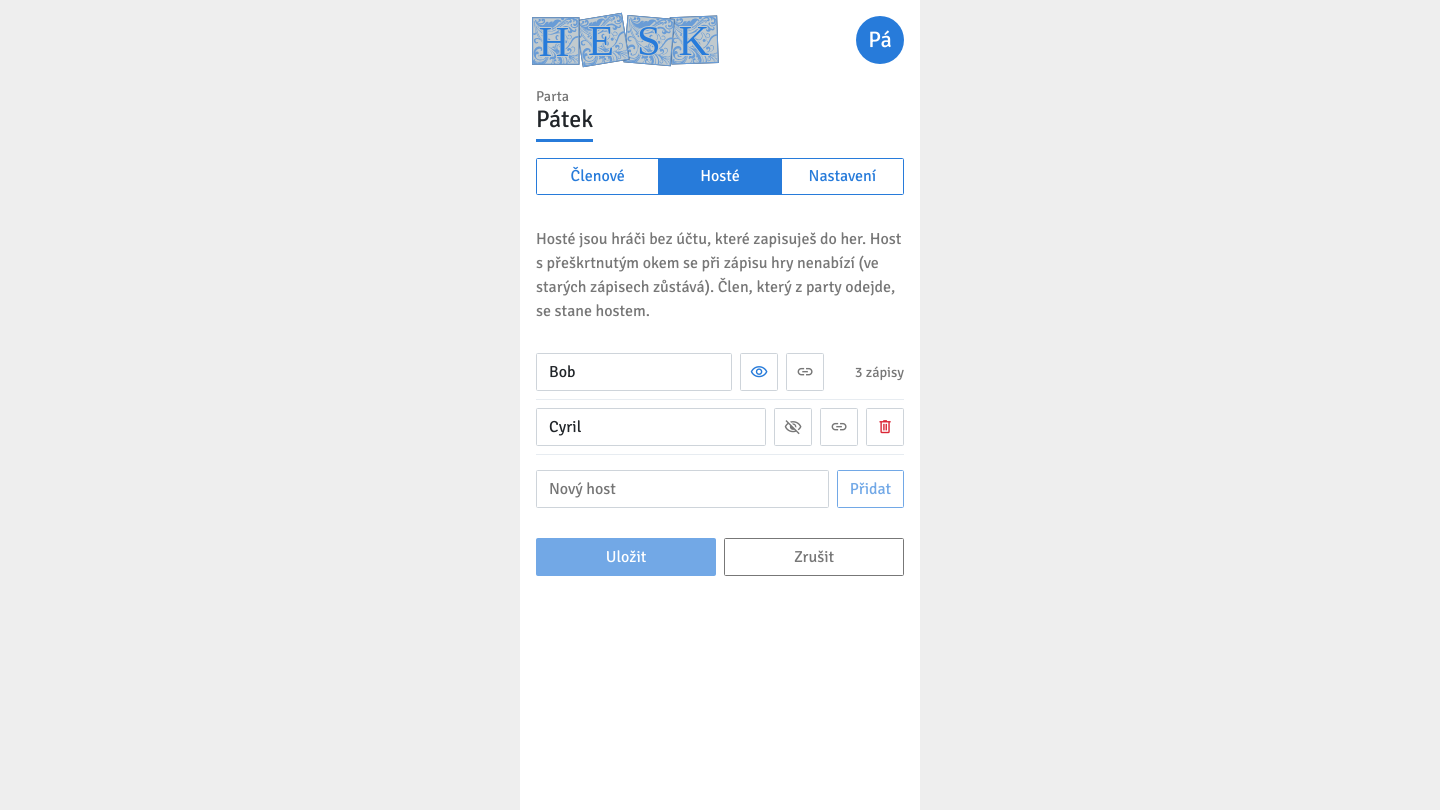
Test: party guests (/parties/:id/guests) › turning a guest into a member › creates an invitation for that guest and shows the link
Click the button named "Propojit hosta Bob s členem" at (805, 372), box x1=786 y1=354 x2=824 y2=392
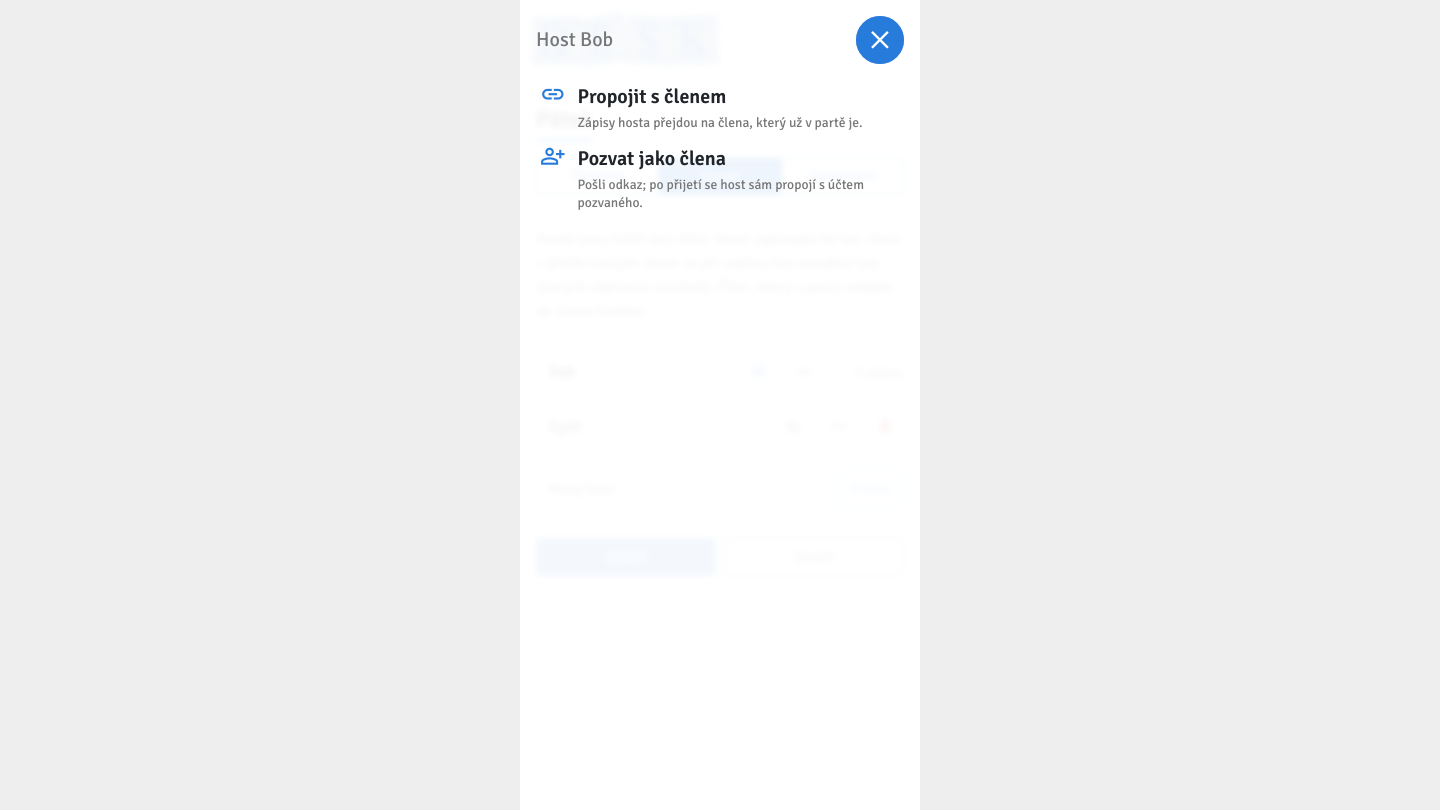
Click the button "Pozvat jako člena" at (720, 178), box x1=536 y1=138 x2=904 y2=218
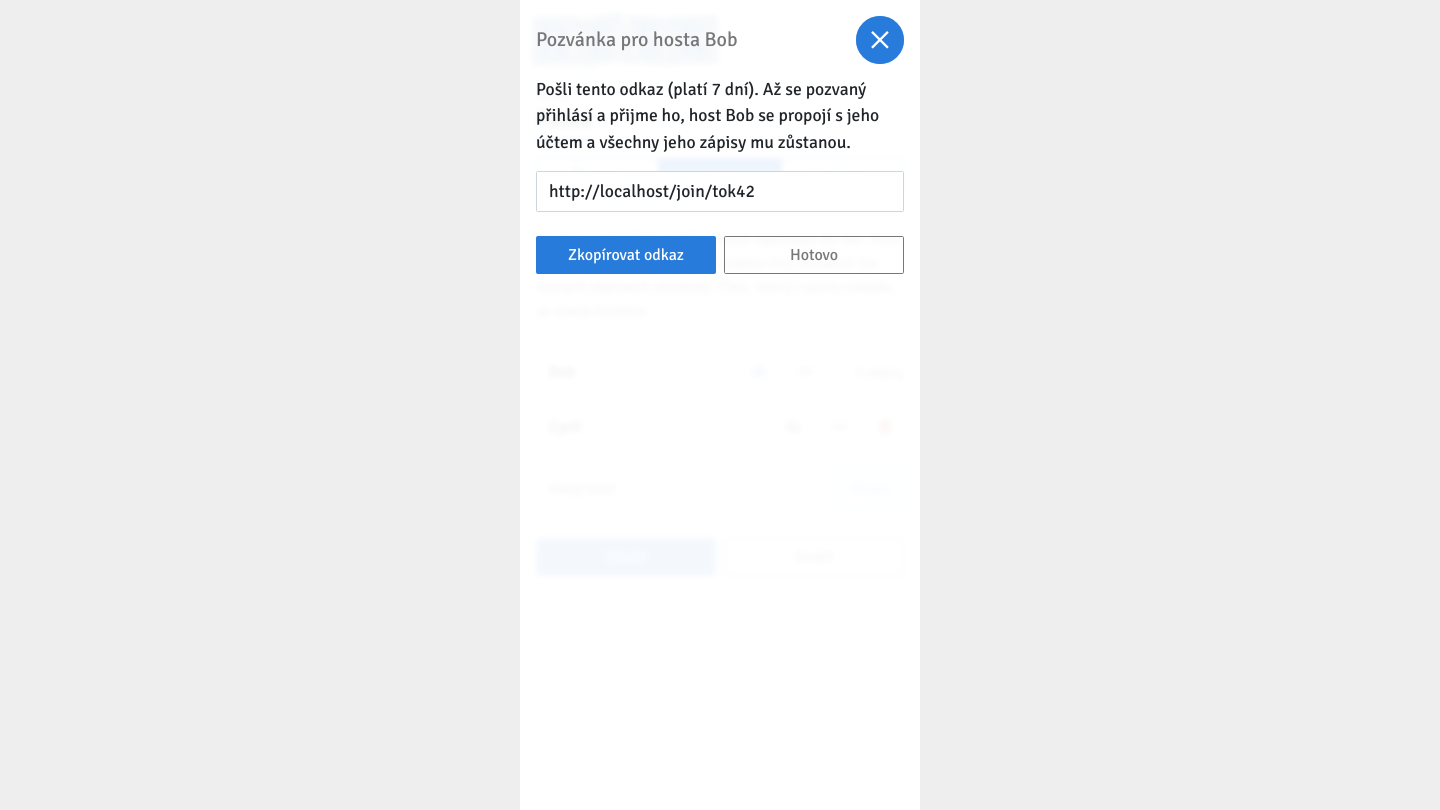
Expected: the text "host Bob se propojí s jeho účtem" is shown, x1=536 y1=76 x2=904 y2=155
